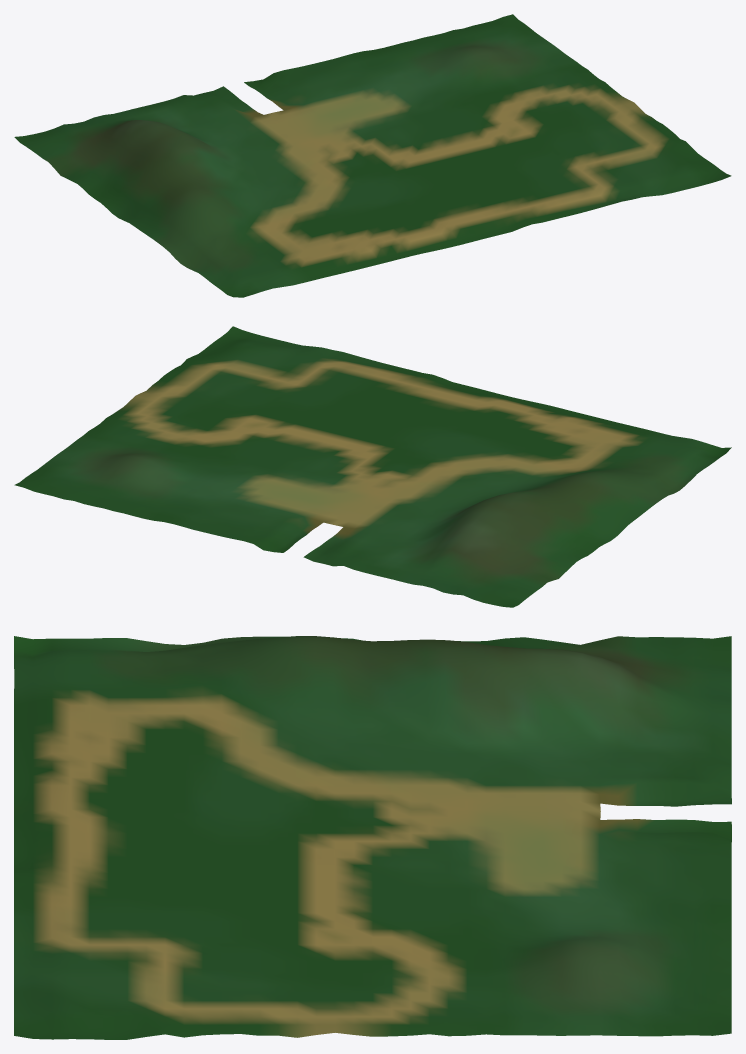
File: landscape.fbx
3 views of the same model, one above another, from view 1: azimuth 30°, elevation 25°; view 2: azimuth 150°, elevation 25°; view 3: azimuth 270°, elevation 25° (orthographic). The views are drawn at different scales.
Visible parts, largest first — view 1: Plane; view 2: Plane; view 3: Plane.
Part boxes in pixels (bbox=[...]): Plane: bbox=[14, 14, 731, 297]; Plane: bbox=[14, 326, 731, 607]; Plane: bbox=[14, 636, 731, 1039].
Size of the model in its own units: 38.02 by 50.04 by 3.66.
